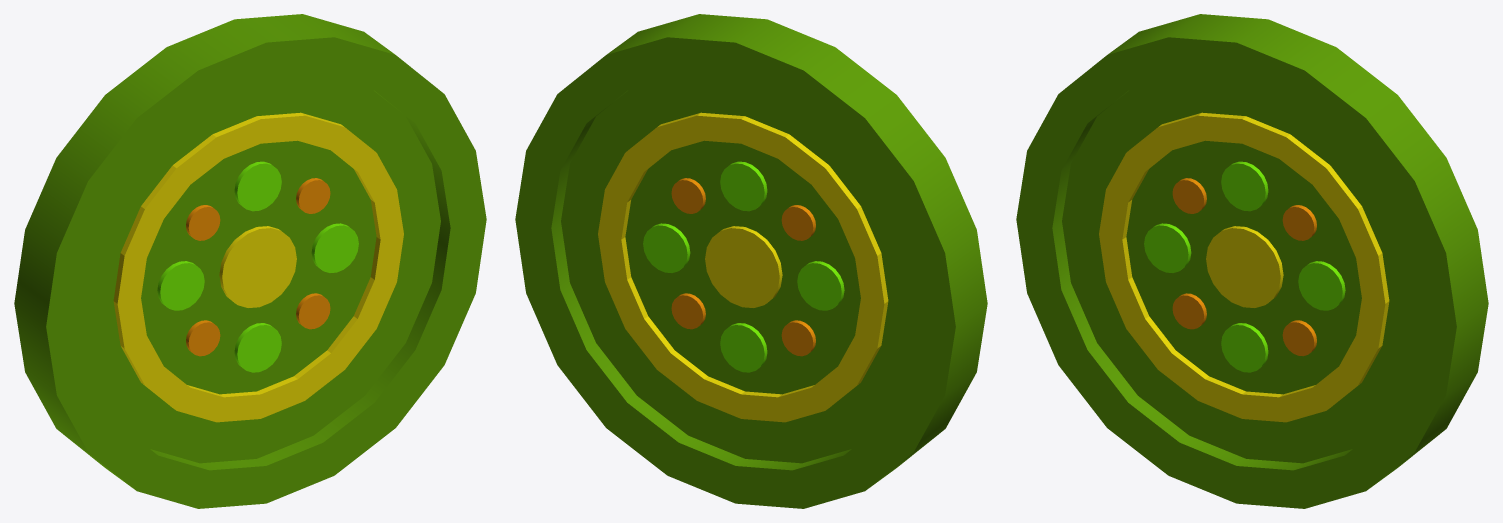
Rendered from Coin.fbx.
The picture shows the model from 3 angles, left to right: view 1: azimuth 30°, elevation 25°; view 2: azimuth 150°, elevation 25°; view 3: azimuth 330°, elevation 25°; orthographic projection.
Parts seen in each view (by area): view 1: pCylinder1, pCylinder2, pCylinder3, pCylinder5, pCylinder7, pCylinder6, pCylinder4, pCylinder11, pCylinder10, pCylinder8, pCylinder9; view 2: pCylinder1, pCylinder2, pCylinder3, pCylinder5, pCylinder7, pCylinder6, pCylinder4, pCylinder11, pCylinder10, pCylinder8, pCylinder9; view 3: pCylinder1, pCylinder2, pCylinder3, pCylinder4, pCylinder7, pCylinder6, pCylinder5, pCylinder8, pCylinder9, pCylinder11, pCylinder10.
Boxes of the visible parts, <box> form: pCylinder1: <box>14,14,486,508</box>; pCylinder2: <box>113,112,403,422</box>; pCylinder3: <box>219,226,296,307</box>; pCylinder5: <box>157,261,204,310</box>; pCylinder7: <box>234,323,281,372</box>; pCylinder6: <box>234,161,281,211</box>; pCylinder4: <box>311,223,358,272</box>; pCylinder11: <box>296,293,330,329</box>; pCylinder10: <box>296,178,330,213</box>; pCylinder8: <box>186,320,220,356</box>; pCylinder9: <box>186,205,220,240</box>; pCylinder1: <box>515,14,987,508</box>; pCylinder2: <box>598,112,888,422</box>; pCylinder3: <box>705,226,782,307</box>; pCylinder5: <box>797,261,844,310</box>; pCylinder7: <box>720,323,767,372</box>; pCylinder6: <box>720,161,767,211</box>; pCylinder4: <box>643,223,690,272</box>; pCylinder11: <box>671,293,705,329</box>; pCylinder10: <box>671,178,705,213</box>; pCylinder8: <box>781,320,815,356</box>; pCylinder9: <box>781,205,815,240</box>; pCylinder1: <box>1016,14,1488,508</box>; pCylinder2: <box>1099,112,1389,422</box>; pCylinder3: <box>1206,226,1283,307</box>; pCylinder4: <box>1298,261,1345,310</box>; pCylinder7: <box>1221,323,1268,372</box>; pCylinder6: <box>1221,161,1268,211</box>; pCylinder5: <box>1144,223,1191,272</box>; pCylinder8: <box>1172,293,1206,329</box>; pCylinder9: <box>1172,178,1206,213</box>; pCylinder11: <box>1282,320,1316,356</box>; pCylinder10: <box>1282,205,1316,240</box>.
Bounding box in the file's own units: 2 × 2 × 0.25.
